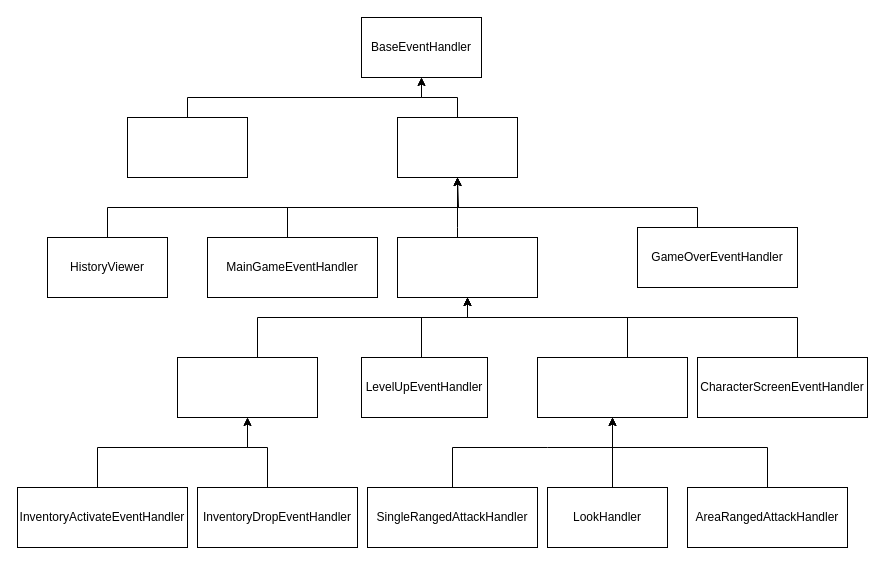
Some shapes in this 885 by 565 pixel diagram are drawn without their labels. The shapes that lost their labels are listed below. From the top down, each one's centre as x and y in pixels, then its label:
[187,147]: PopupMessage
[457,147]: EventHandler
[467,267]: AskUserEventHandler
[247,387]: InventoryEventHandler
[612,387]: SelectIndexEventHandler
